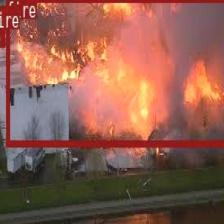fire: (5, 0, 224, 146), (0, 28, 4, 45)
